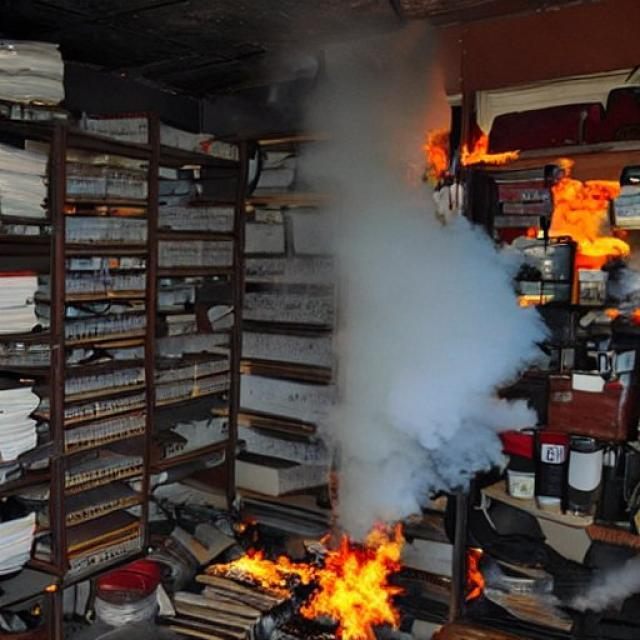Fire: (304, 537, 416, 635), (538, 168, 628, 278), (216, 542, 295, 590), (457, 117, 511, 172)
Smoke: (287, 29, 536, 527)
